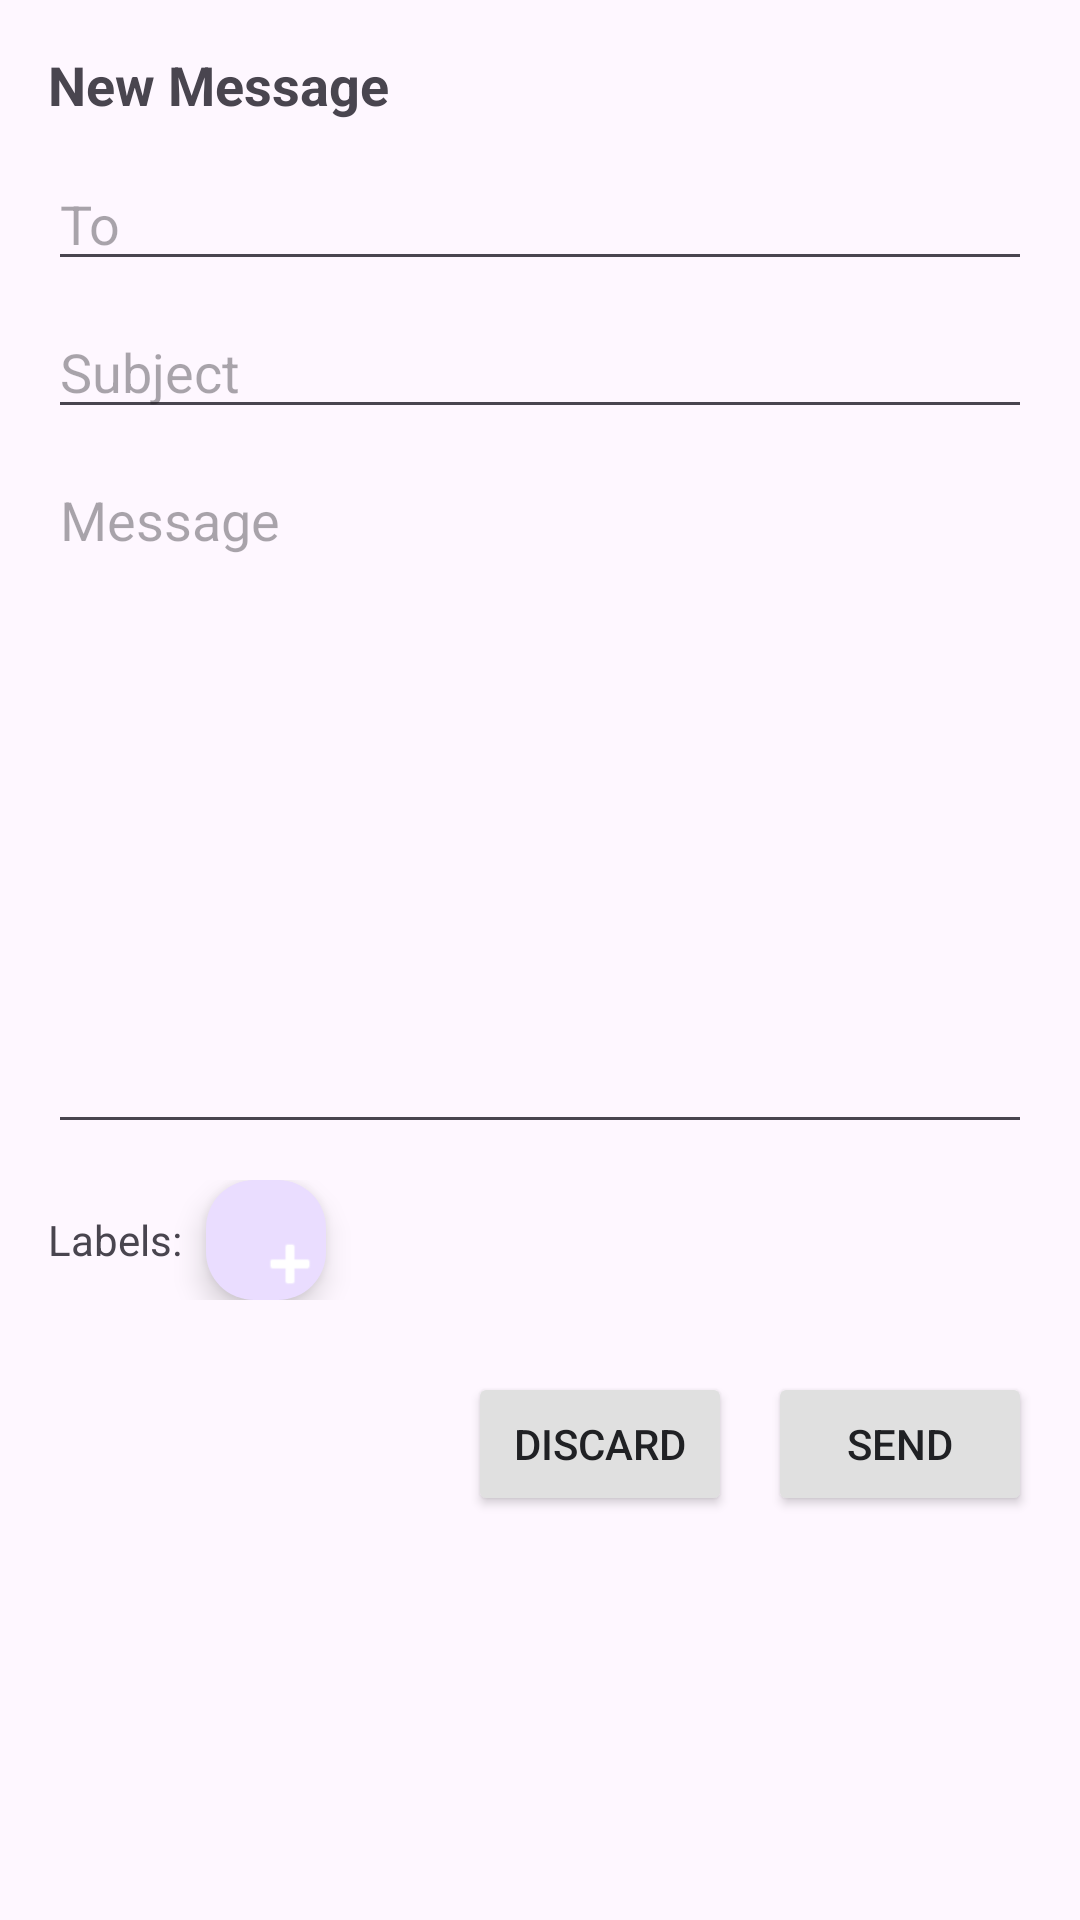

Where to tap for icons on this 1080px×1920px app screen, as [x,y]:
Add label: [266,1240]
